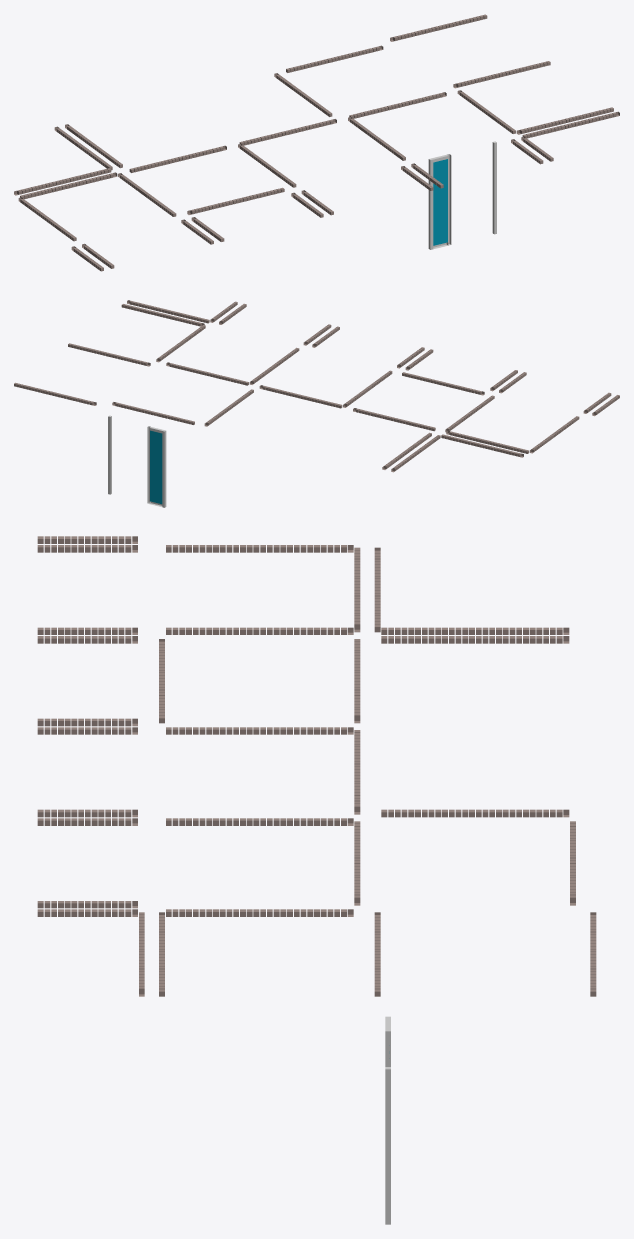
3 views of the same model, one above another, from view 1: azimuth 30°, elevation 25°; view 2: azimuth 150°, elevation 25°; view 3: azimuth 270°, elevation 25° (orthographic). The views are drawn at different scales.
Bounding box in the file's own units: 9.59 × 2.7 × 4.97.
